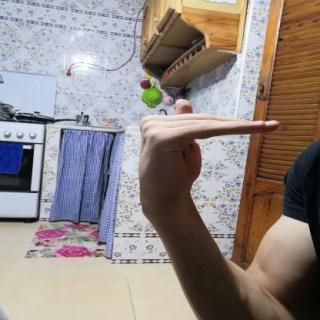KHAA: (125, 94, 288, 220)
